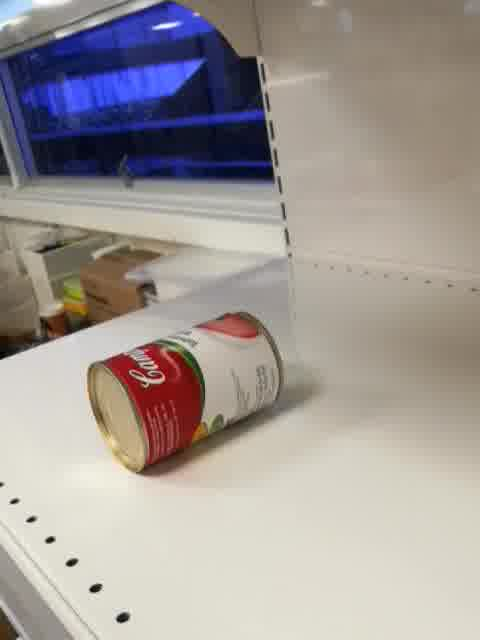tomatosoup: (84, 308, 283, 477)
